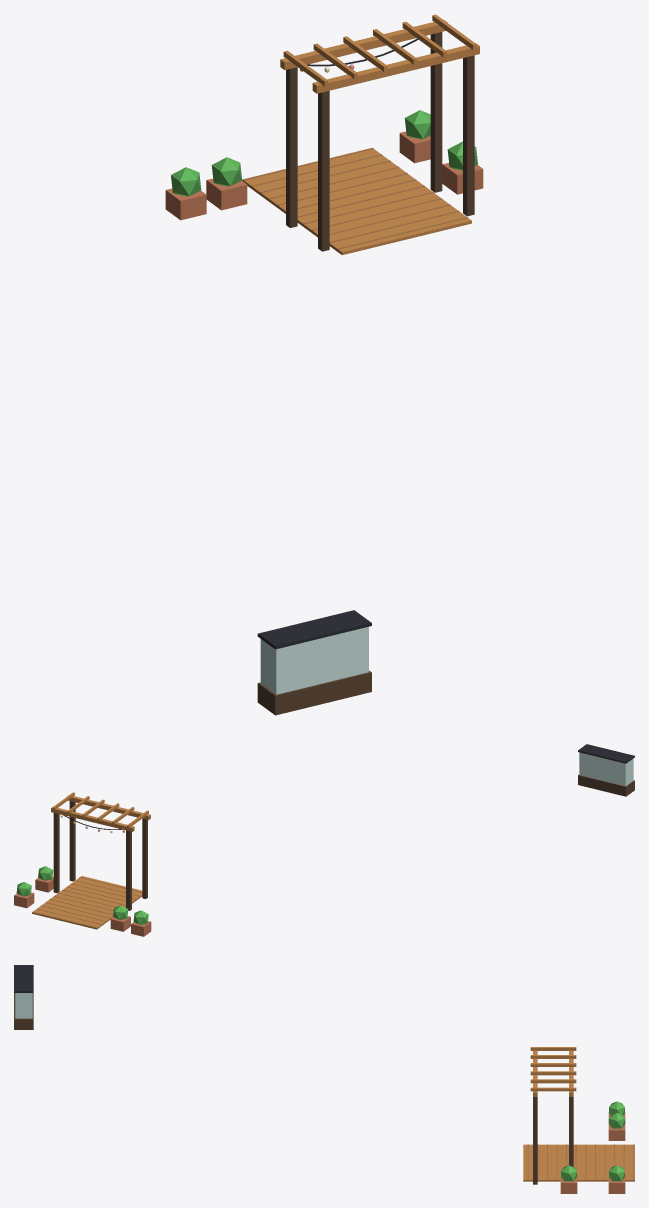
File: CatCafe_Plot_Tier4_56x43.glb
3 renders of one model, top to bottom at view 1: azimuth 30°, elevation 25°; view 2: azimuth 150°, elevation 25°; view 3: azimuth 270°, elevation 25°, orthographic. The views are drawn at different scales.
Parts seen in each view (by area): view 1: CatCafe_Plot_Tier4_56x43, CatCafe_Plot_Tier4_56x43_Glass; view 2: CatCafe_Plot_Tier4_56x43, CatCafe_Plot_Tier4_56x43_Glass; view 3: CatCafe_Plot_Tier4_56x43, CatCafe_Plot_Tier4_56x43_Glass.
Part boxes in pixels (x1,y1,x2,y2): CatCafe_Plot_Tier4_56x43: [165, 14, 483, 715]; CatCafe_Plot_Tier4_56x43_Glass: [260, 626, 368, 694]; CatCafe_Plot_Tier4_56x43: [14, 744, 634, 936]; CatCafe_Plot_Tier4_56x43_Glass: [579, 752, 633, 786]; CatCafe_Plot_Tier4_56x43: [14, 965, 634, 1193]; CatCafe_Plot_Tier4_56x43_Glass: [15, 993, 32, 1018].
Bounding box in the file's own units: 37.52 × 8.85 × 51.75.
Materials: 1 (1 with a texture image).
